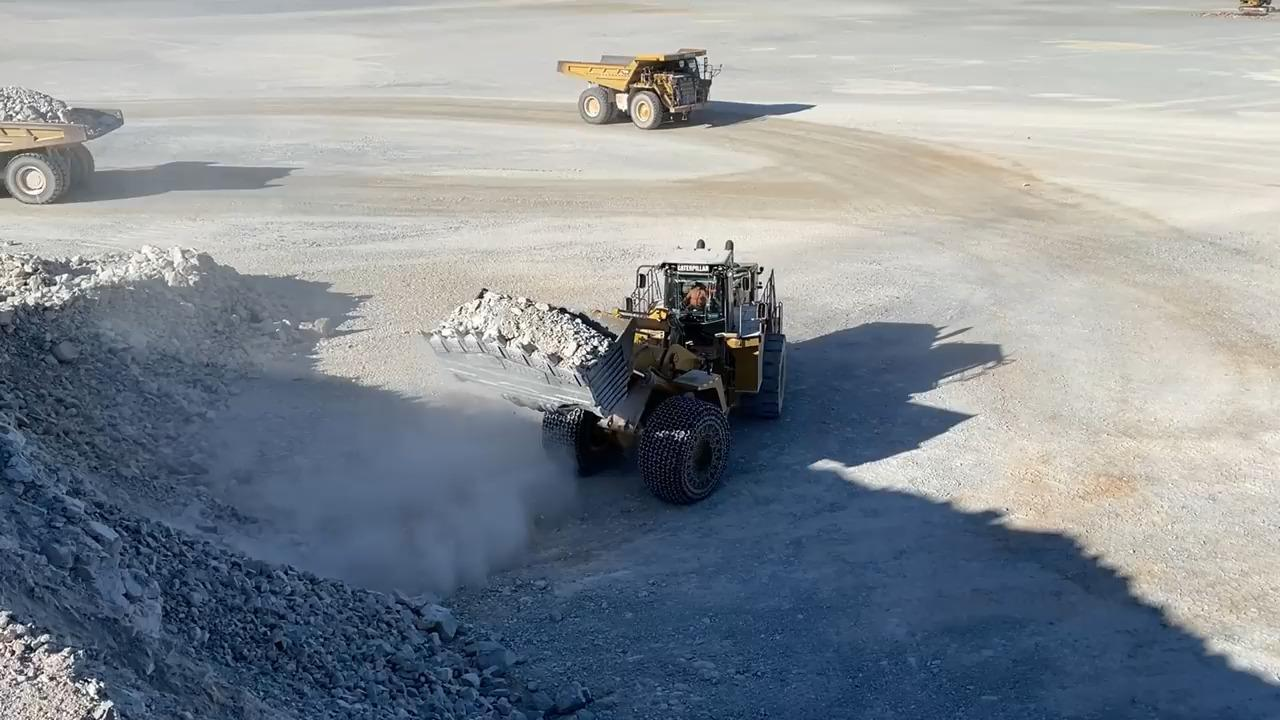dump truck: (551, 39, 722, 131), (0, 79, 122, 207)
wheel loader: (416, 232, 799, 507)
